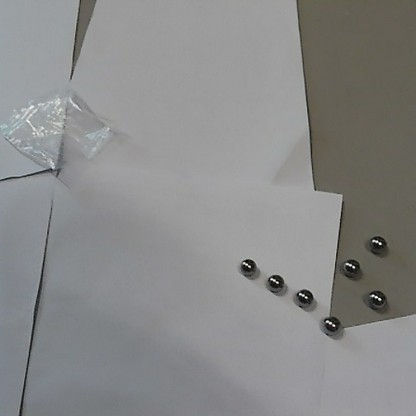ironball: (321, 313, 345, 338), (365, 286, 387, 310), (292, 288, 317, 309), (235, 256, 257, 279), (341, 254, 361, 278), (367, 233, 385, 255), (267, 271, 283, 293)
